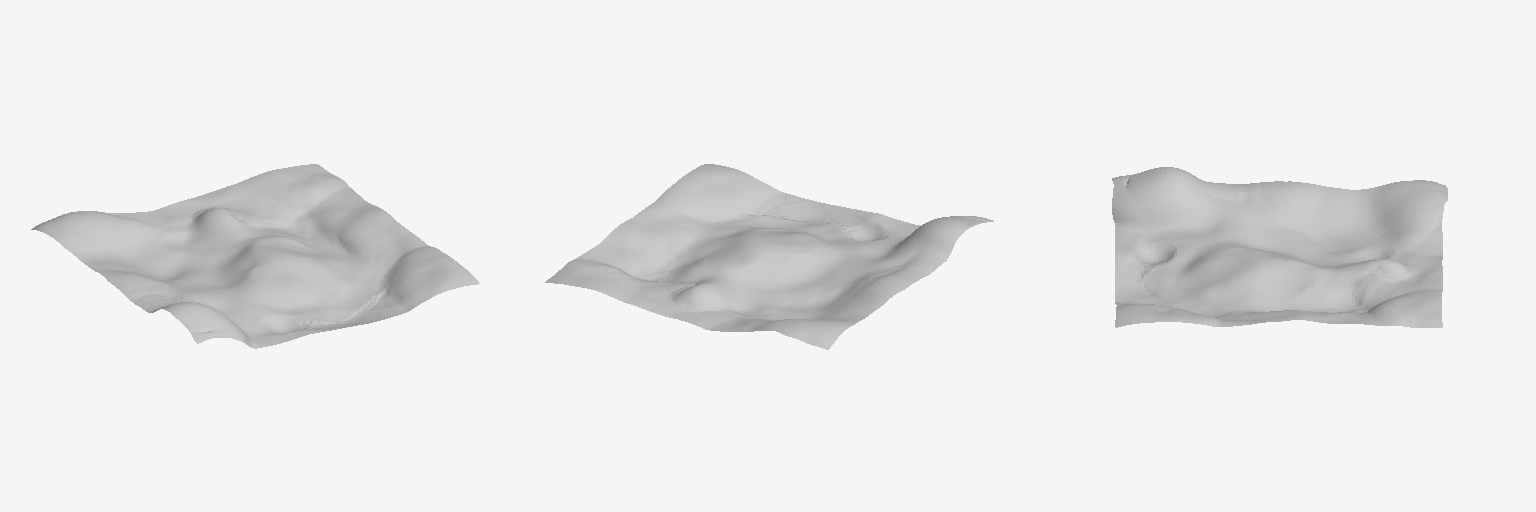
The model's file is ground_test_model.obj.
3 views of the same model, side by side, from view 1: azimuth 30°, elevation 25°; view 2: azimuth 150°, elevation 25°; view 3: azimuth 270°, elevation 25° (orthographic).
Parts seen in each view (by area): view 1: pPlane1; view 2: pPlane1; view 3: pPlane1.
Part boxes in pixels (bbox=[...]): pPlane1: bbox=[31, 164, 479, 348]; pPlane1: bbox=[545, 164, 993, 349]; pPlane1: bbox=[1112, 167, 1447, 327].
Bounding box in the file's own units: 125 × 17.96 × 127.